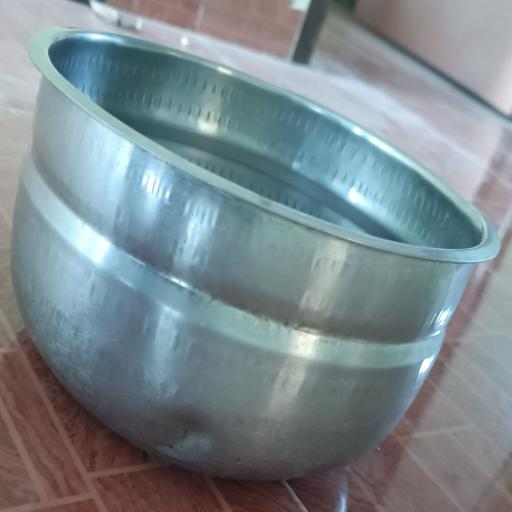vessel: (12, 28, 499, 479)
